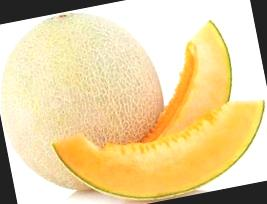Melon Ripe: (0, 0, 177, 201), (50, 96, 267, 204)
